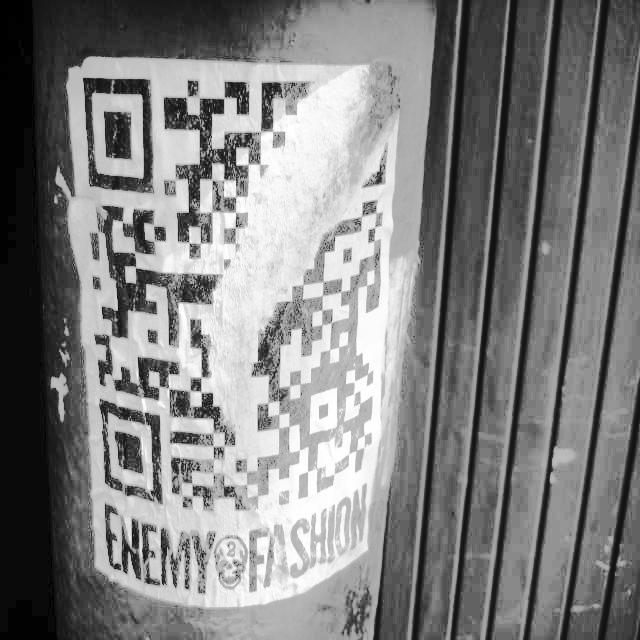qr_code: (83, 77, 392, 513)
